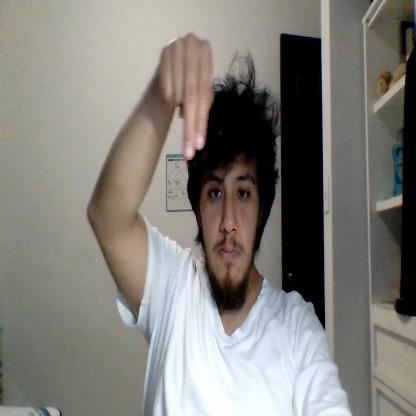N: (160, 32, 214, 160)
